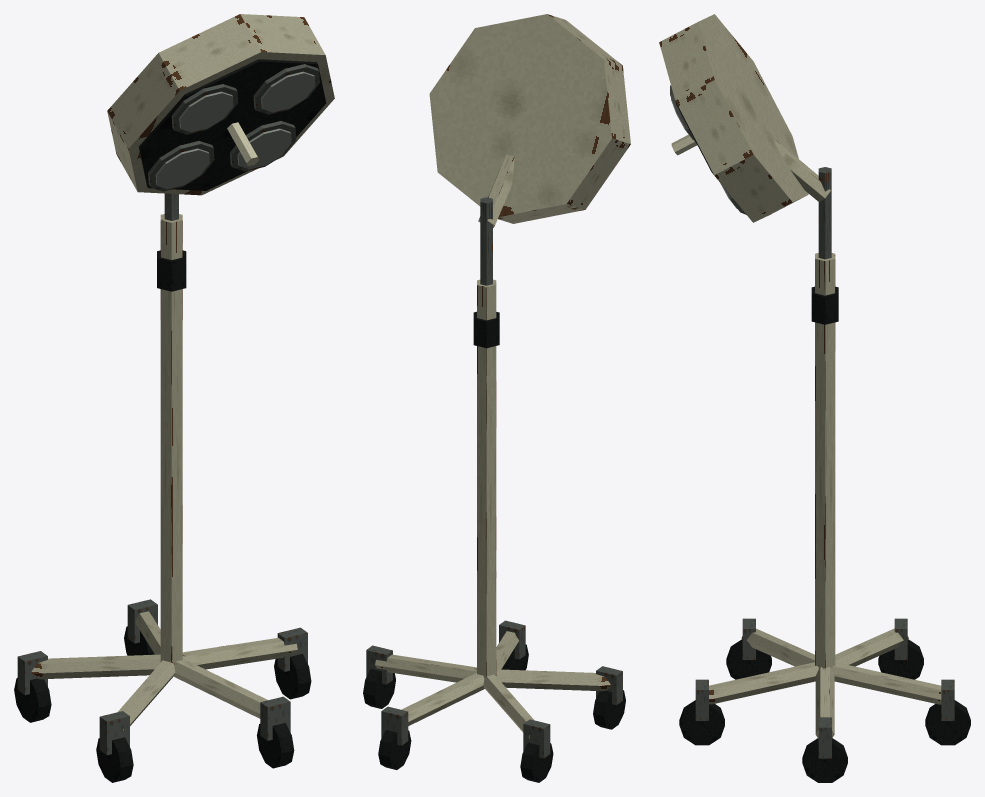
The model's file is surgical_lamp.glb.
The picture shows the model from 3 angles, left to right: view 1: azimuth 30°, elevation 25°; view 2: azimuth 150°, elevation 25°; view 3: azimuth 270°, elevation 25°; orthographic projection. The views are drawn at different scales.
Parts seen in each view (by area): view 1: 03_Surgical_Lamp_Treatment_|_Shared_Pixel_Atlas.001, Lamp_Head_Tilt_Treatment_|_Shared_Pixel_Atlas.001, Lamp_Head_Tilt_Lamp_Lenses_Off.001; view 2: Lamp_Head_Tilt_Treatment_|_Shared_Pixel_Atlas.001, 03_Surgical_Lamp_Treatment_|_Shared_Pixel_Atlas.001; view 3: 03_Surgical_Lamp_Treatment_|_Shared_Pixel_Atlas.001, Lamp_Head_Tilt_Treatment_|_Shared_Pixel_Atlas.001.
Part boxes in pixels (bbox=[...]): 03_Surgical_Lamp_Treatment_|_Shared_Pixel_Atlas.001: bbox=[14, 193, 311, 782]; Lamp_Head_Tilt_Treatment_|_Shared_Pixel_Atlas.001: bbox=[107, 14, 334, 195]; Lamp_Head_Tilt_Lamp_Lenses_Off.001: bbox=[155, 71, 315, 189]; Lamp_Head_Tilt_Treatment_|_Shared_Pixel_Atlas.001: bbox=[429, 14, 630, 223]; 03_Surgical_Lamp_Treatment_|_Shared_Pixel_Atlas.001: bbox=[363, 154, 625, 782]; 03_Surgical_Lamp_Treatment_|_Shared_Pixel_Atlas.001: bbox=[679, 140, 970, 782]; Lamp_Head_Tilt_Treatment_|_Shared_Pixel_Atlas.001: bbox=[659, 14, 808, 222].
Bounding box in the file's own units: 0.6801 × 2.04 × 0.8203.
Materials: 2 (1 with a texture image).
